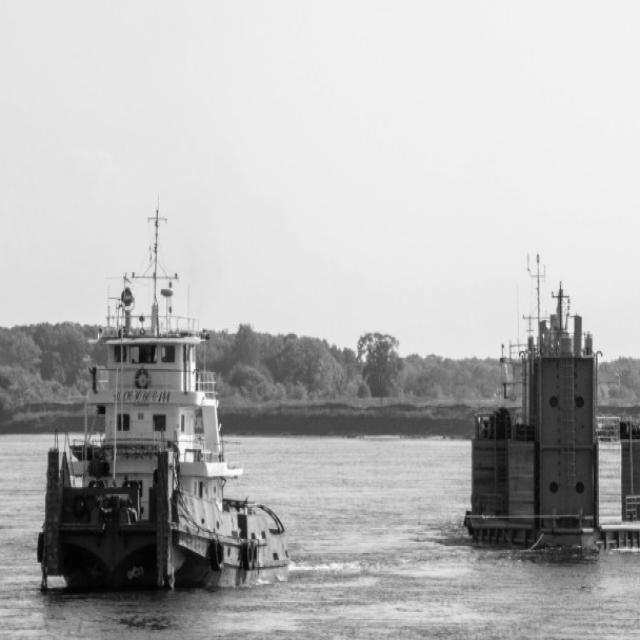tugboat: (30, 199, 299, 618)
